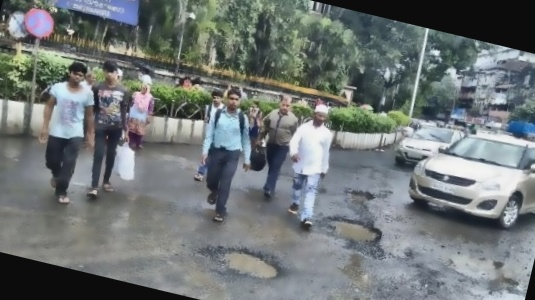pothole: (218, 240, 288, 285), (319, 208, 387, 253), (346, 184, 379, 206)
